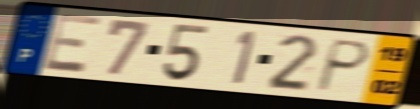1: (231, 29, 259, 87)
2: (263, 33, 321, 93)
5: (160, 22, 212, 83)
7: (105, 17, 152, 78)
E: (41, 11, 106, 75)
P: (312, 37, 373, 94)
